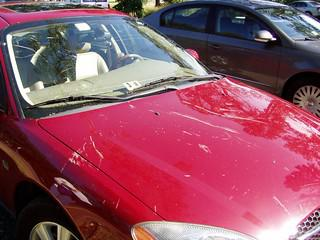bonnet-dent: (81, 96, 297, 193)
